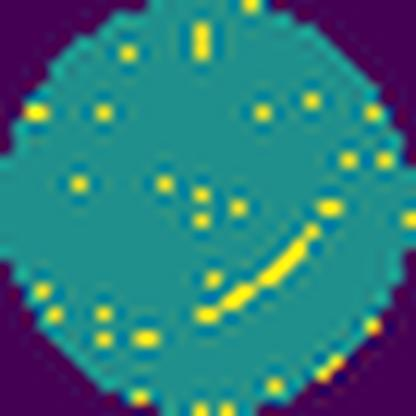Scratch: (189, 219, 325, 329)
